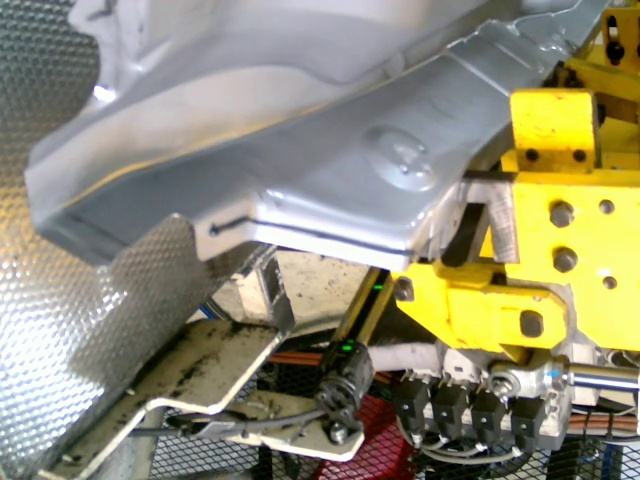line: (207, 213, 417, 259)
